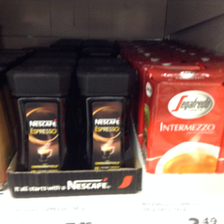coffee: (141, 66, 224, 176), (6, 62, 74, 172), (75, 64, 137, 169)
